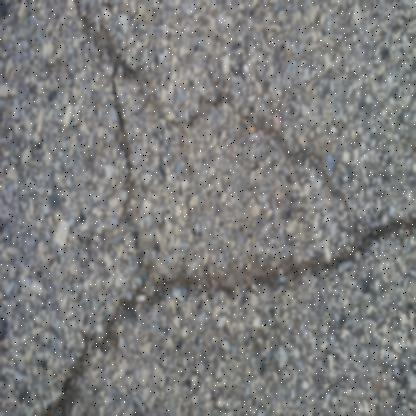Cracks: (37, 207, 415, 415), (72, 0, 356, 271)
